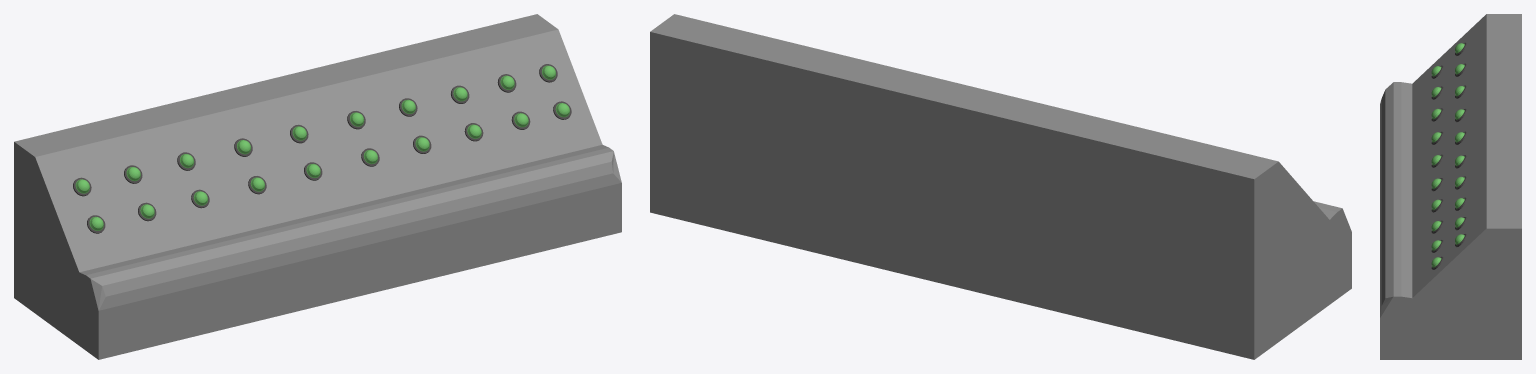
File: Control_panel.fbx
3 views of the same model, side by side, from view 1: azimuth 30°, elevation 25°; view 2: azimuth 150°, elevation 25°; view 3: azimuth 270°, elevation 25° (orthographic). The views are drawn at different scales.
Parts seen in each view (by area): view 1: Control_panel; view 2: Control_panel; view 3: Control_panel.
Boxes of the visible parts, x1,y1,x2,y2 form: Control_panel: [14, 14, 621, 359]; Control_panel: [650, 14, 1351, 359]; Control_panel: [1380, 14, 1521, 359].
Size of the model in its own units: 700 by 200 by 196.
